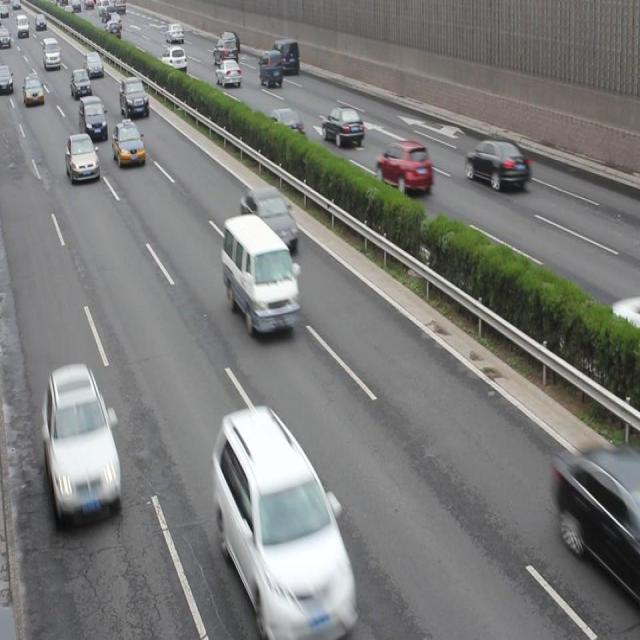car: (214, 409, 358, 640), (552, 443, 640, 591), (44, 366, 120, 518), (240, 187, 298, 250), (464, 139, 529, 192), (375, 140, 432, 195), (321, 107, 365, 148), (67, 132, 100, 183), (112, 122, 146, 166), (79, 94, 108, 140), (267, 108, 305, 141), (119, 78, 150, 118), (258, 51, 283, 89), (213, 37, 238, 68), (216, 60, 242, 88), (24, 72, 44, 106), (70, 67, 91, 99), (161, 48, 186, 72), (218, 31, 240, 53), (84, 52, 104, 76), (1, 63, 14, 93), (165, 24, 184, 44)
truck: (222, 216, 299, 335), (270, 40, 299, 74), (44, 38, 62, 70)
